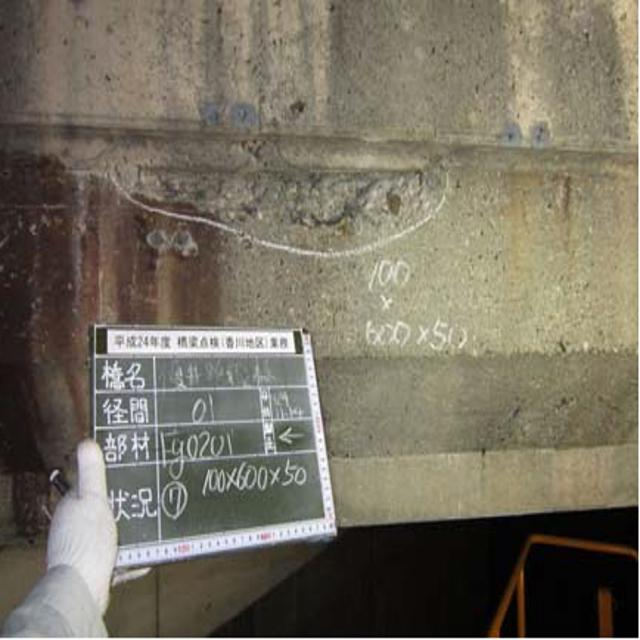spalling: (124, 126, 446, 251)
